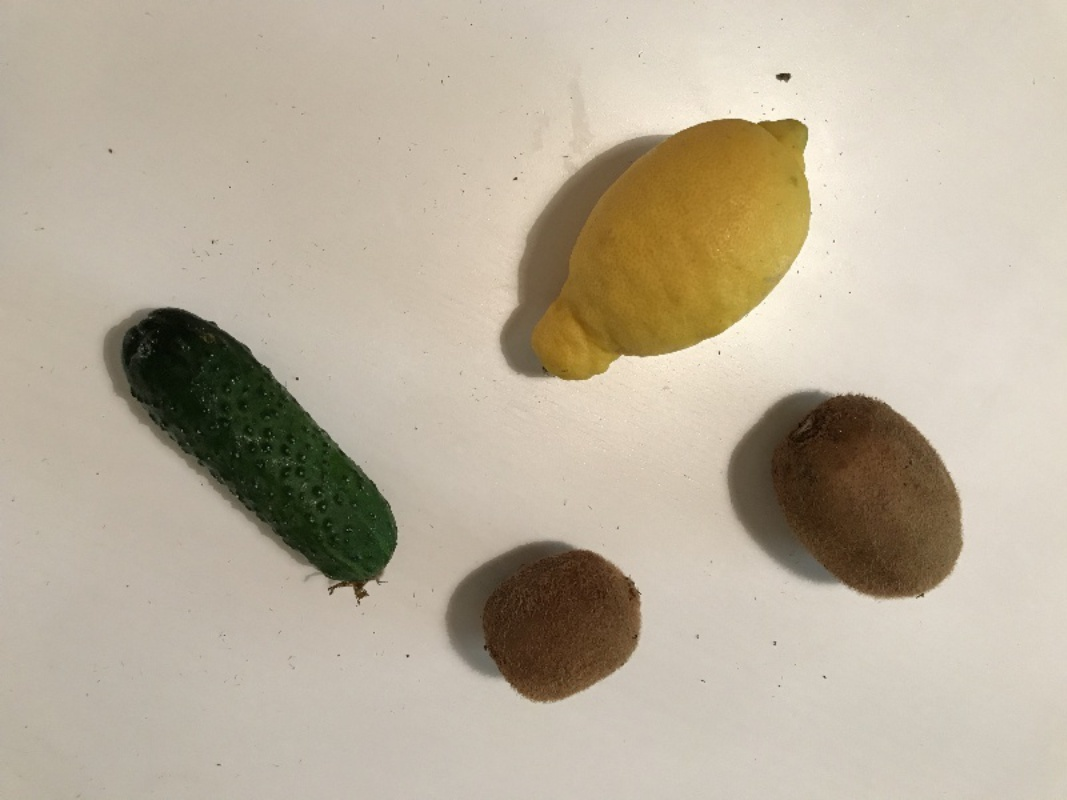kiwi: (772, 394, 963, 599), (482, 550, 641, 703)
lemon: (531, 120, 811, 380)
